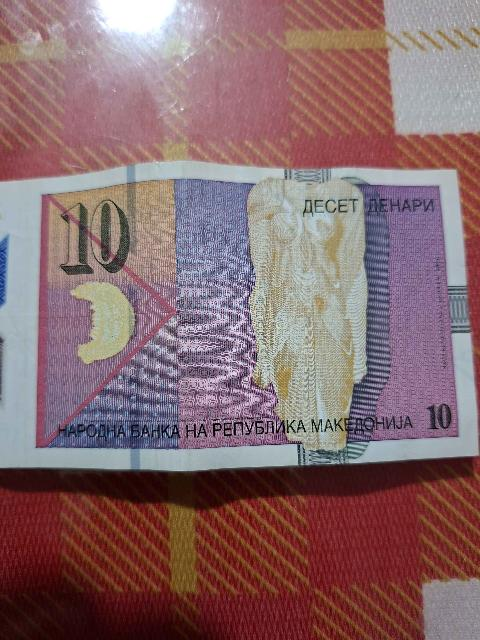note: (0, 168, 479, 469)
